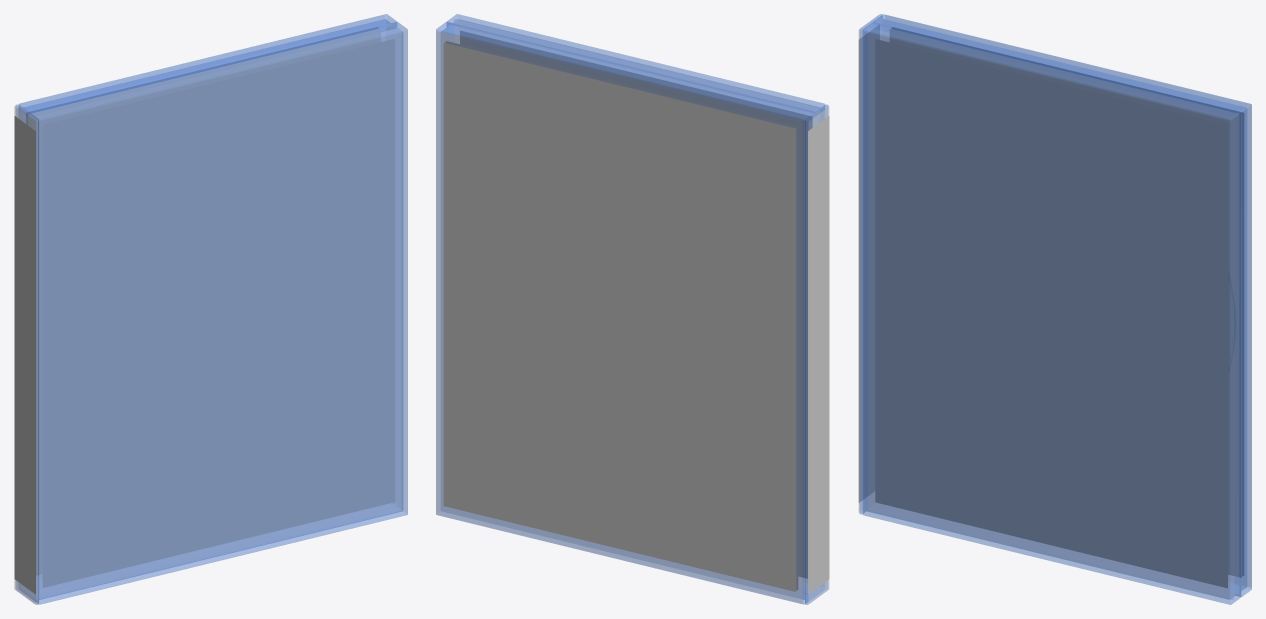
File: case.glb
3 views of the same model, side by side, from view 1: azimuth 30°, elevation 25°; view 2: azimuth 150°, elevation 25°; view 3: azimuth 330°, elevation 25° (orthographic).
Parts seen in each view (by area): view 1: Cover, PrintFront, PrintSpine, FilmSpine, InnerTray, Tray, Spine, PrintBack, FilmFront; view 2: FilmBack, PrintBack, Tray, PrintSpine, FilmSpine, PrintFront, Cover, Spine, InnerTray, FilmFront; view 3: Cover, PrintFront, Tray, InnerTray, PrintSpine, Spine, PrintBack, FilmFront, Disc, FilmSpine.
Boxes of the visible parts, bbox=[...] form: Cover: bbox=[29, 22, 407, 604]; PrintFront: bbox=[43, 39, 394, 587]; PrintSpine: bbox=[14, 116, 35, 594]; FilmSpine: bbox=[14, 106, 34, 603]; InnerTray: bbox=[28, 28, 380, 575]; Tray: bbox=[19, 14, 396, 115]; Spine: bbox=[15, 105, 38, 604]; PrintBack: bbox=[26, 27, 378, 124]; FilmFront: bbox=[36, 28, 401, 117]; FilmBack: bbox=[436, 32, 802, 603]; PrintBack: bbox=[443, 42, 796, 591]; Tray: bbox=[436, 22, 814, 604]; PrintSpine: bbox=[808, 116, 829, 594]; FilmSpine: bbox=[809, 106, 829, 603]; PrintFront: bbox=[460, 30, 812, 578]; Cover: bbox=[447, 14, 824, 592]; Spine: bbox=[805, 105, 828, 604]; InnerTray: bbox=[446, 41, 797, 589]; FilmFront: bbox=[454, 19, 819, 108]; Cover: bbox=[863, 22, 1241, 604]; PrintFront: bbox=[875, 39, 1227, 587]; Tray: bbox=[873, 14, 1251, 596]; InnerTray: bbox=[889, 29, 1242, 577]; PrintSpine: bbox=[858, 25, 879, 502]; Spine: bbox=[859, 14, 882, 513]; PrintBack: bbox=[892, 27, 1243, 575]; FilmFront: bbox=[868, 28, 1233, 599]; Disc: bbox=[1228, 270, 1236, 373]; FilmSpine: bbox=[858, 15, 878, 512].
Bounding box in the file's own units: 1.36 × 1.7 × 0.1389.
